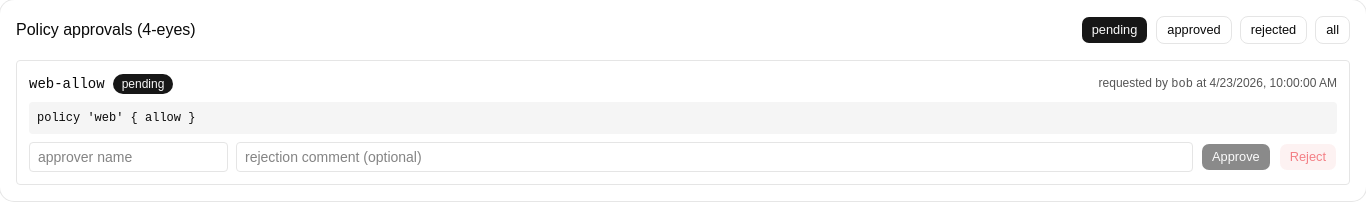
ApprovalsPage › does NOT show approve/reject buttons on approved or rejected cards
The image size is (1366, 219).
Expected: the text "web-allow" is shown, [29, 76, 105, 92]
Click the button "approved": click(1194, 30) [1156, 16, 1232, 44]
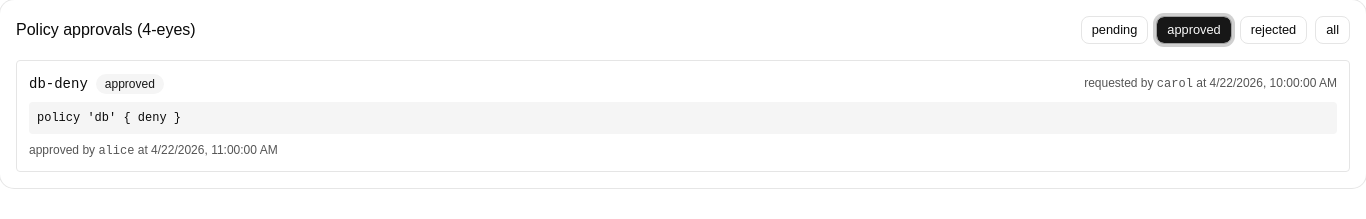
Expected: the text "db-deny" is shown, [29, 76, 88, 92]
Expected: the text "approved by alice at 4/22/2026, 11:00:00 AM" is shown, [29, 143, 278, 158]
Click the button "rejected": click(1273, 30) [1240, 16, 1307, 44]
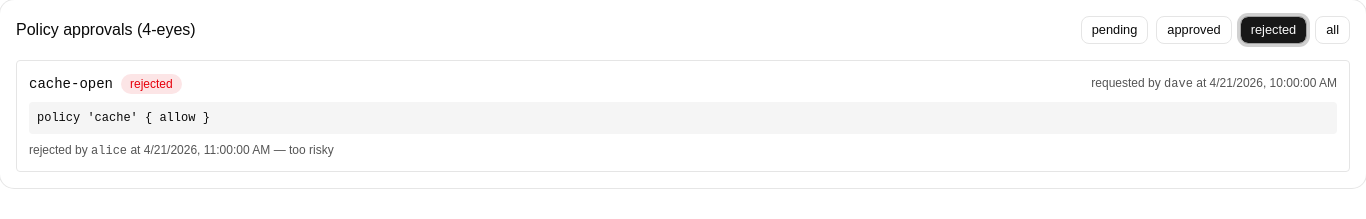
Expected: the text "cache-open" is shown, [29, 76, 113, 92]
Expected: the text "rejected by alice at 4/21/2026, 11:00:00 AM — too risky" is shown, [29, 143, 334, 158]
